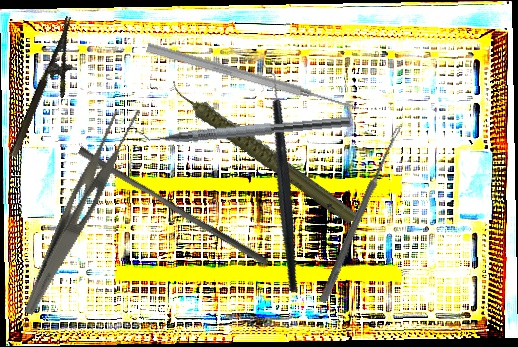Chopper: (205, 62, 352, 293), (130, 101, 351, 150)
Dressing Forceps: (22, 97, 144, 326)
Handpiece: (168, 44, 360, 256)
Needle Holder: (7, 15, 94, 166)
Pusher: (73, 145, 274, 267), (145, 40, 361, 116)
Surgical Spoon: (319, 124, 402, 305)
